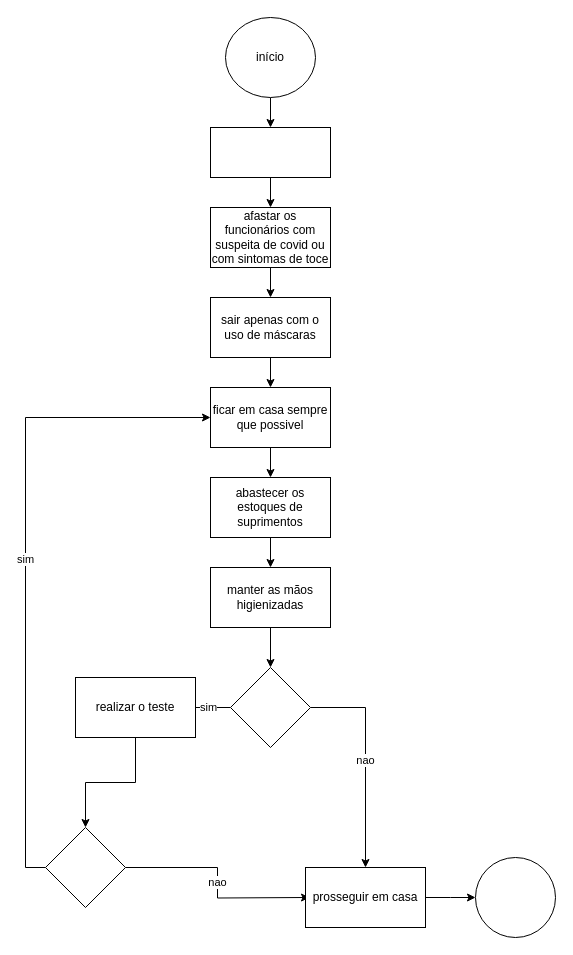
The diagram is 573 pixels wide and 955 high, and some of its shapes have lost their labels. The centre of each missing label's shape, as x and y in pixels:
deu positivo?: (x=85, y=867)
está com toce?: (x=270, y=707)
fim: (x=515, y=897)
respeitar a distância de 2 metros: (x=270, y=152)
